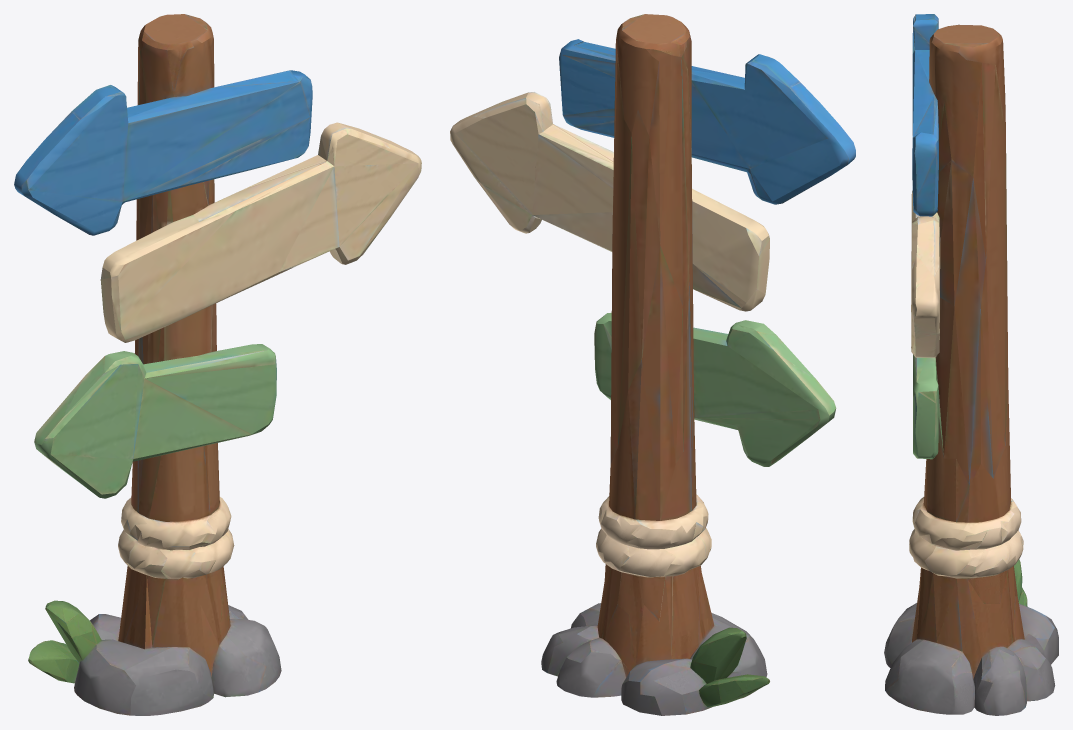
The model's file is deco-signpost.glb.
3 renders of one model, left to right at view 1: azimuth 30°, elevation 25°; view 2: azimuth 150°, elevation 25°; view 3: azimuth 270°, elevation 25°, orthographic.
Parts seen in each view (by area): view 1: deco-signpost-fit; view 2: deco-signpost-fit; view 3: deco-signpost-fit.
Part boxes in pixels (left/top/right/bottom): deco-signpost-fit: left=14, top=14, right=421, bottom=715; deco-signpost-fit: left=450, top=14, right=855, bottom=715; deco-signpost-fit: left=884, top=14, right=1058, bottom=715.
Size of the model in its own units: 1.3 by 2 by 0.4968.
Materials: 1 (1 with a texture image).
